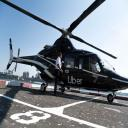helicopter: (1, 1, 128, 103)
